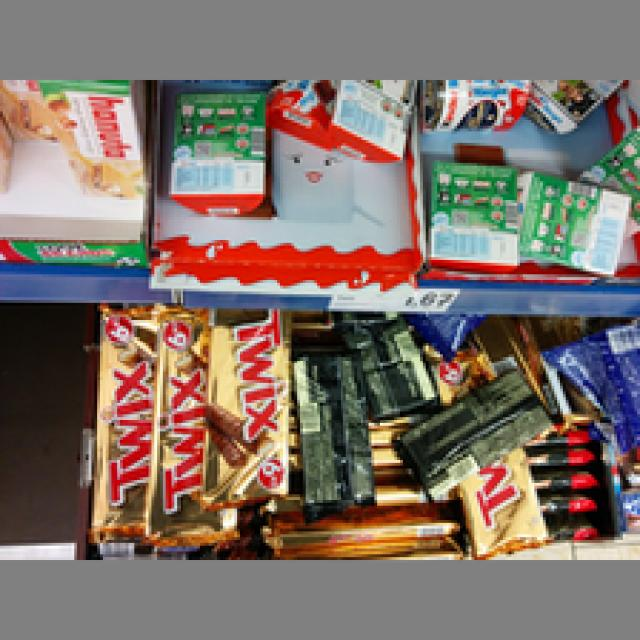groceries: (203, 308, 288, 512), (406, 374, 548, 486), (286, 331, 374, 503), (143, 312, 206, 528), (92, 306, 148, 543), (165, 86, 268, 214), (506, 160, 620, 266), (423, 160, 526, 263)
